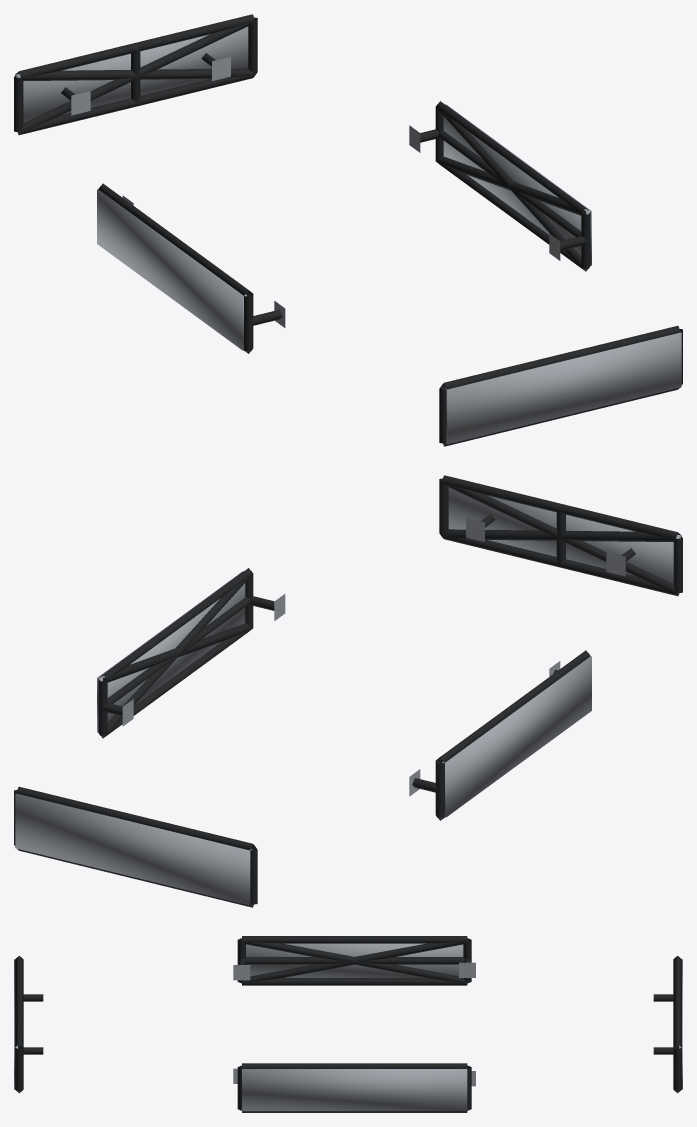
The model's file is pemberly_flautista_protecao.glb.
3 views of the same model, one above another, from view 1: azimuth 30°, elevation 25°; view 2: azimuth 150°, elevation 25°; view 3: azimuth 270°, elevation 25° (orthographic). The views are drawn at different scales.
Visible parts, largest first — view 1: Protection_front_Level3_Details, Protection_left_Level3_Details, Protection_rear_Level1_Details, Protection_rear_Level3_Details, Protection_right_Level1_Details, Protection_rear_Level2_Details, Protection_right_Level2_Details, Protection_right_Level3_Details, Protection_front_Level1_Details, Protection_left_Level1_Details; view 2: Protection_rear_Level3_Details, Protection_left_Level3_Details, Protection_front_Level1_Details, Protection_front_Level3_Details, Protection_right_Level1_Details, Protection_front_Level2_Details, Protection_right_Level2_Details, Protection_right_Level3_Details, Protection_rear_Level1_Details, Protection_left_Level1_Details; view 3: Protection_right_Level3_Details, Protection_left_Level2_Details, Protection_left_Level1_Details, Protection_left_Level3_Details, Protection_right_Level1_Details, Protection_rear_Level1_Details, Protection_front_Level1_Details.
Part boxes in pixels (x1,y1,x2,y2): Protection_front_Level3_Details: (445,332,681,444); Protection_left_Level3_Details: (97,189,246,350); Protection_rear_Level1_Details: (14,14,257,135); Protection_rear_Level3_Details: (15,26,248,122); Protection_right_Level1_Details: (409,101,590,271); Protection_rear_Level2_Details: (16,21,254,134); Protection_right_Level2_Details: (436,107,590,270); Protection_right_Level3_Details: (443,104,591,265); Protection_front_Level1_Details: (439,325,682,446); Protection_left_Level1_Details: (98,183,285,353); Protection_rear_Level3_Details: (15,793,251,905); Protection_left_Level3_Details: (442,656,591,817); Protection_front_Level1_Details: (439,475,682,596); Protection_front_Level3_Details: (448,487,681,583); Protection_right_Level1_Details: (98,568,285,738); Protection_front_Level2_Details: (442,482,680,595); Protection_right_Level2_Details: (99,574,252,737); Protection_right_Level3_Details: (97,571,245,732); Protection_rear_Level1_Details: (14,786,257,907); Protection_left_Level1_Details: (409,650,590,820); Protection_right_Level3_Details: (242,1069,467,1111); Protection_left_Level2_Details: (241,938,467,983); Protection_left_Level1_Details: (233,936,475,985); Protection_left_Level3_Details: (246,943,463,977); Protection_right_Level1_Details: (233,1063,475,1112); Protection_rear_Level1_Details: (653,955,681,1093); Protection_front_Level1_Details: (15,955,43,1093).
Bounding box in the file's own units: 2.02 × 0.354 × 4.33.
1 material, 1 textured.
